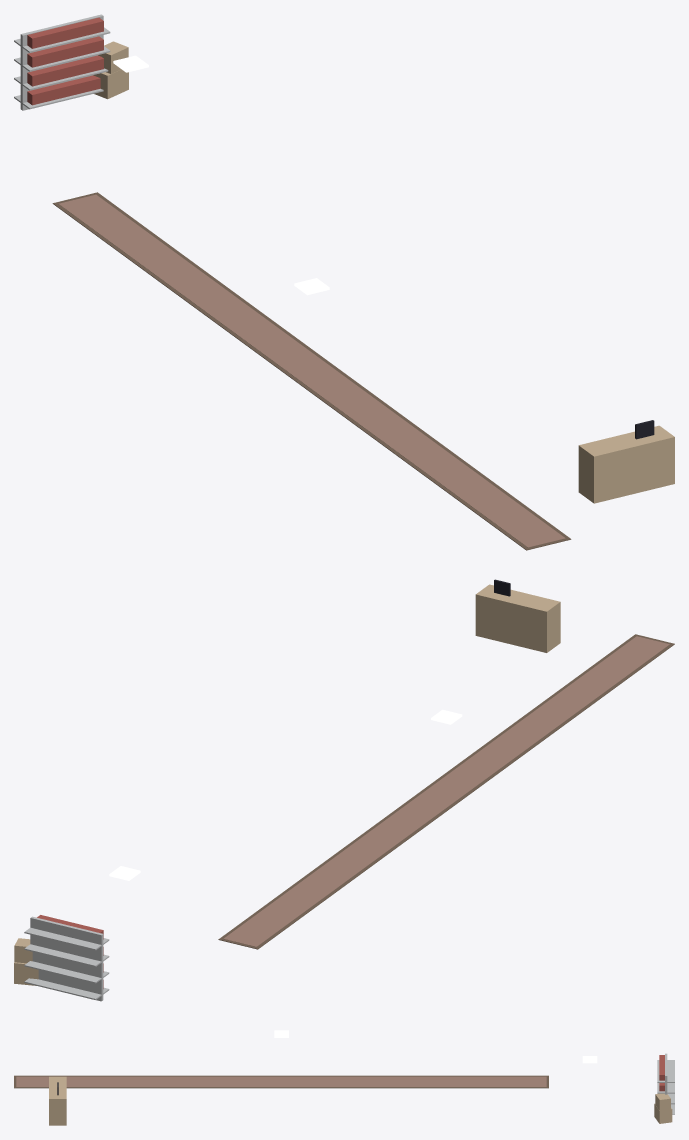
Rendered from fine-s0.glb.
3 renders of one model, top to bottom at view 1: azimuth 30°, elevation 25°; view 2: azimuth 150°, elevation 25°; view 3: azimuth 270°, elevation 25°, orthographic. The views are drawn at different scales.
Visible parts, largest first — view 1: soft-s0, shelving.000, shop-counter.000, cardboard-box.000; view 2: soft-s0, shelving.000, shop-counter.000, cardboard-box.000; view 3: soft-s0, shop-counter.000, shelving.000, cardboard-box.000.
Part boxes in pixels (x1,y1,x2,y2): soft-s0: (52, 192, 571, 550); shelving.000: (14, 14, 110, 110); shop-counter.000: (578, 420, 674, 503); cardboard-box.000: (93, 41, 128, 99); soft-s0: (218, 634, 674, 949); shelving.000: (24, 915, 109, 1001); shop-counter.000: (475, 579, 560, 652); cardboard-box.000: (14, 938, 38, 985); soft-s0: (14, 1075, 548, 1088); shop-counter.000: (49, 1076, 66, 1125); shelving.000: (657, 1053, 674, 1114); cardboard-box.000: (654, 1093, 672, 1123).
Bounding box in the file's own units: 4 × 1.84 × 22.56.
